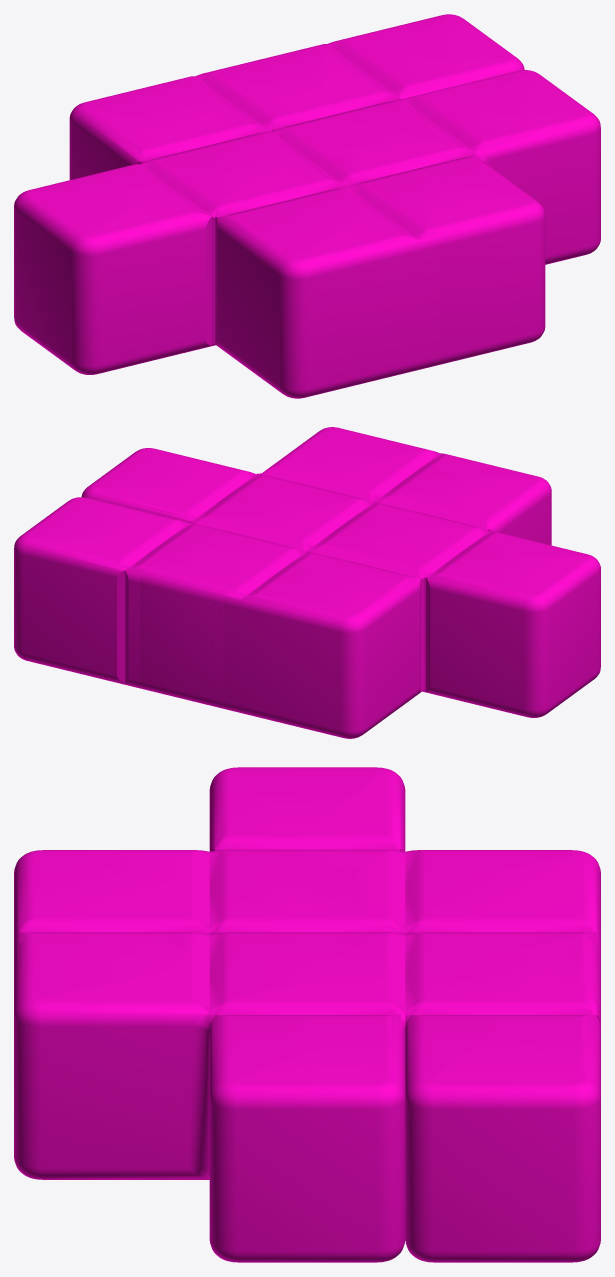
3 renders of one model, top to bottom at view 1: azimuth 30°, elevation 25°; view 2: azimuth 150°, elevation 25°; view 3: azimuth 270°, elevation 25°, orthographic. The views are drawn at different scales.
Visible parts, largest first — view 1: 12, 6, 5, 4, 8, 10, 2, 9, 3, 11, 7, 1; view 2: 8, 12, 6, 10, 2, 5, 4, 7, 3, 9, 11, 1; view 3: 5, 12, 10, 11, 4, 6, 8, 2, 3, 9, 1, 7.
Boxes of the visible parts, x1,y1,x2,y2 form: 12: (69,47,545,398); 6: (14,126,534,374); 5: (159,70,600,365); 4: (245,56,545,358); 8: (69,49,398,203); 10: (215,14,524,197); 2: (214,47,449,170); 9: (72,52,600,262); 3: (159,48,452,206); 11: (162,73,600,264); 7: (18,92,446,371); 1: (290,103,457,174); 8: (140,483,464,738); 12: (140,427,551,737); 6: (249,428,600,717); 10: (14,481,469,707); 2: (140,482,351,708); 5: (83,448,449,566); 4: (140,427,423,707); 7: (193,497,595,715); 3: (145,478,472,586); 9: (101,449,413,731); 11: (81,448,469,582); 1: (208,477,356,539); 5: (14,850,405,1262); 12: (14,850,600,1179); 10: (225,854,600,1262); 11: (50,850,526,1262); 4: (15,933,600,1174); 6: (23,767,405,1171); 8: (215,850,600,1008); 2: (229,933,600,1013); 3: (215,850,587,1012); 9: (212,850,599,1262); 1: (221,933,390,1005); 7: (209,767,424,1005).
Size of the model in its own units: 200 by 50 by 150.
